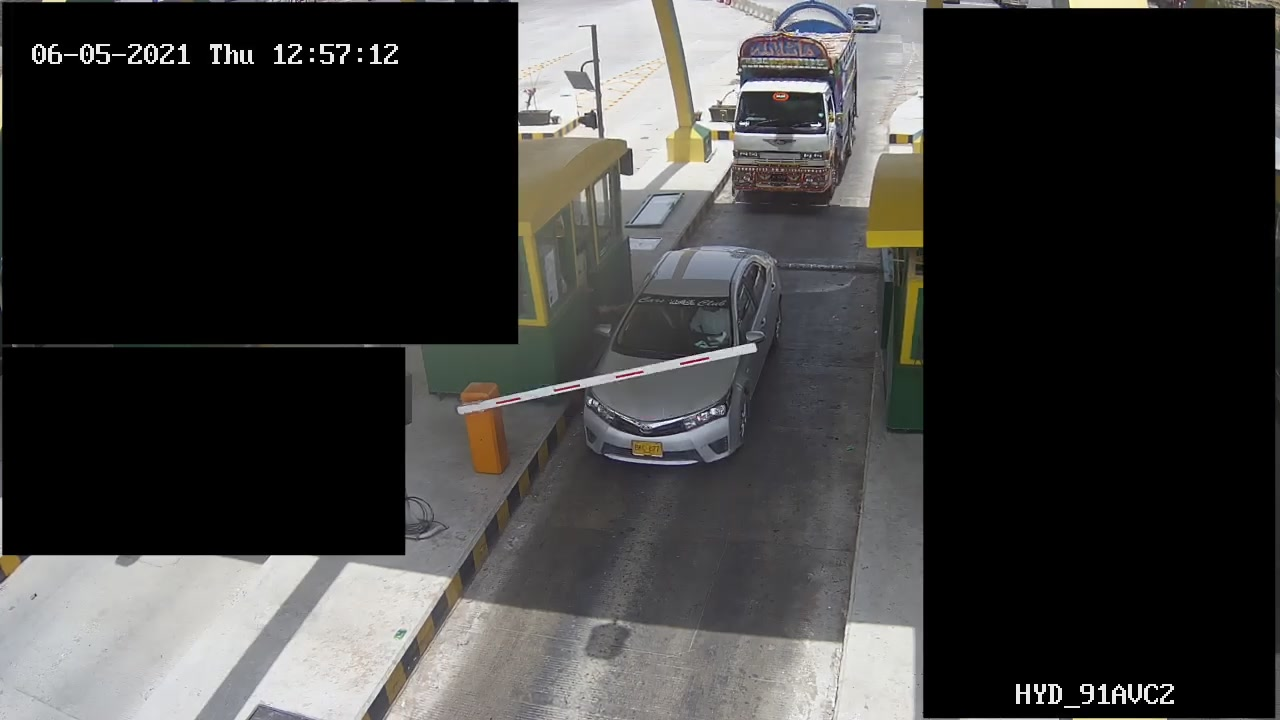F1: (583, 237, 786, 479)
F5: (726, 1, 865, 206)
